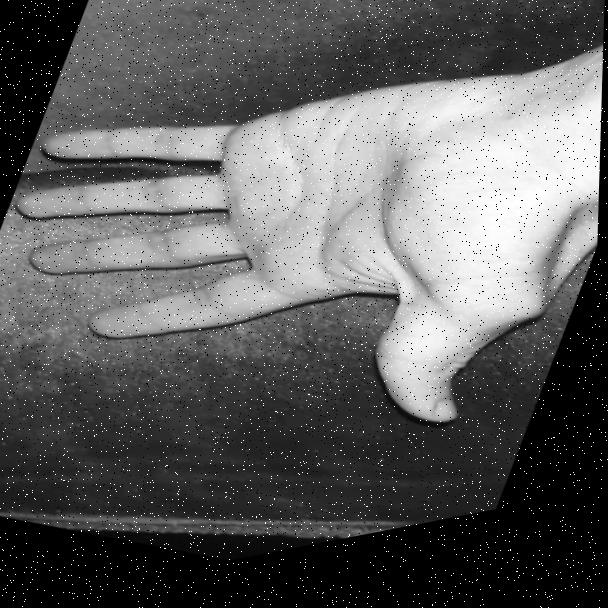five: (0, 0, 607, 529)
